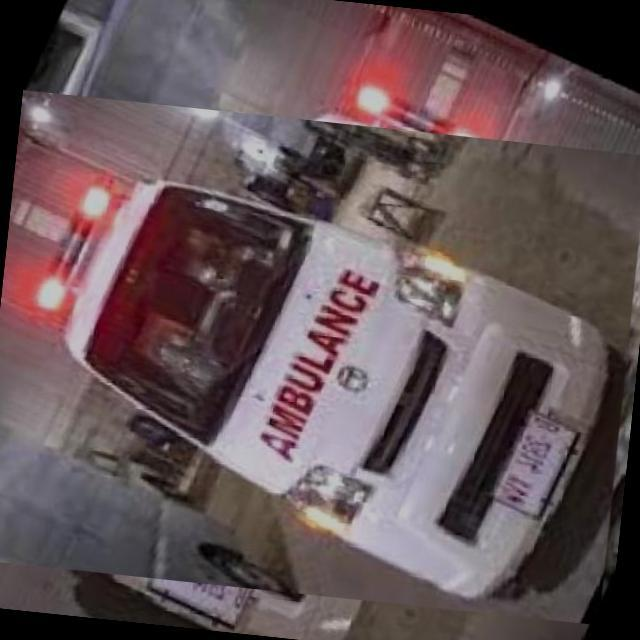emergency-vehicle: (5, 53, 613, 640)
